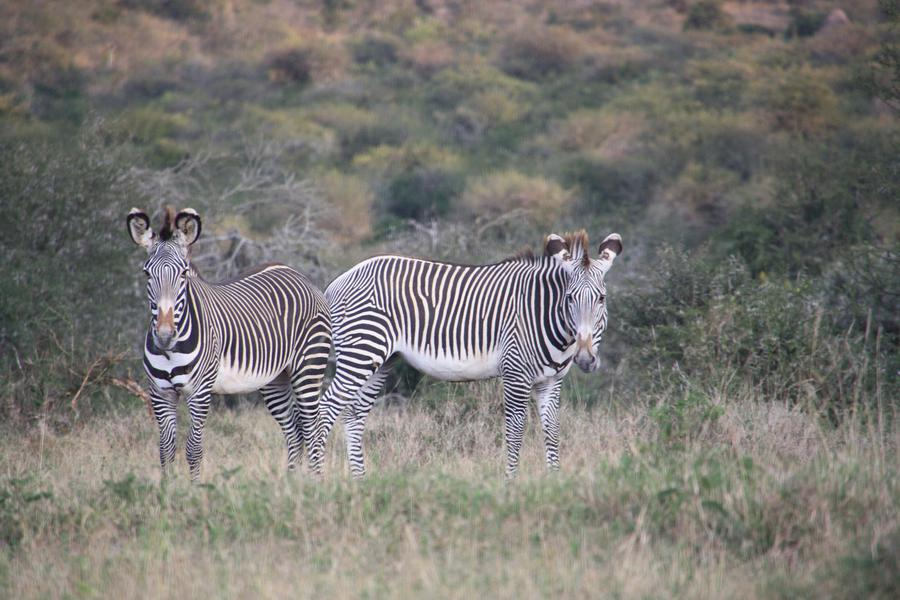zebra_grevys: (331, 244, 549, 376)
